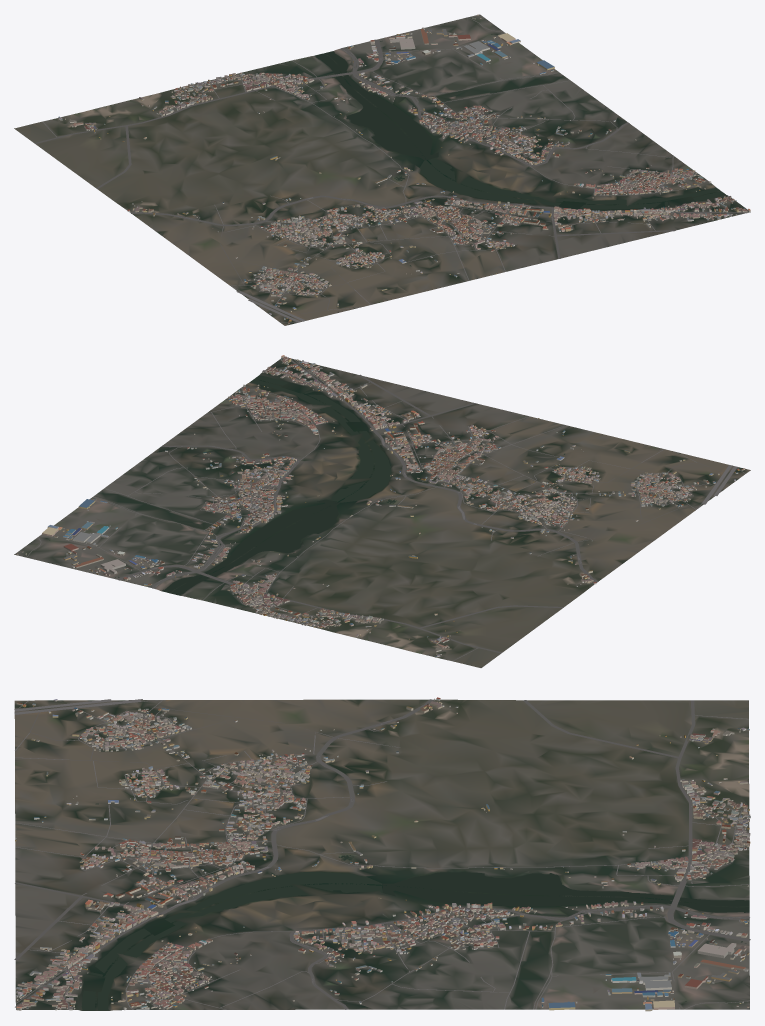
3 renders of one model, top to bottom at view 1: azimuth 30°, elevation 25°; view 2: azimuth 150°, elevation 25°; view 3: azimuth 270°, elevation 25°, orthographic. The views are drawn at different scales.
Visible parts, largest first — view 1: ground, buildings, roads, water; view 2: ground, buildings, roads, water; view 3: ground, buildings, roads, water.
Boxes of the visible parts, <box> form: ground: <box>14,14,750,325</box>; buildings: <box>58,14,750,323</box>; roads: <box>34,17,747,322</box>; water: <box>315,34,725,266</box>; ground: <box>14,358,750,667</box>; buildings: <box>16,355,744,657</box>; roads: <box>27,357,745,661</box>; water: <box>49,375,564,595</box>; ground: <box>14,699,749,1010</box>; buildings: <box>15,697,750,1011</box>; roads: <box>14,699,750,1009</box>; water: <box>81,803,749,1010</box>.
Size of the model in its own units: 2816 by 27.84 by 2815.
